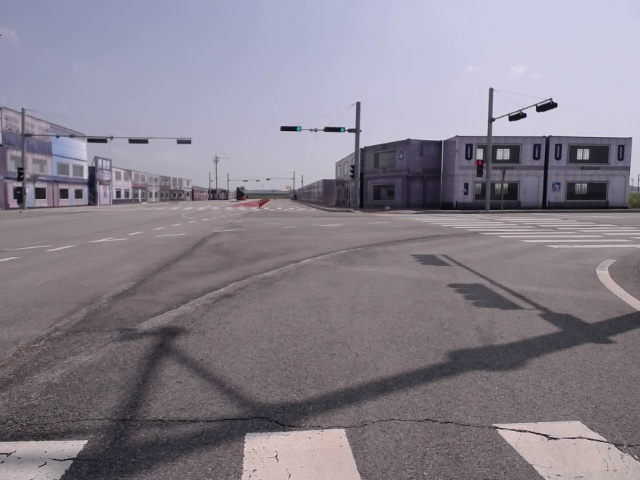straight_green_4: (322, 126, 346, 133), (282, 125, 302, 132)
